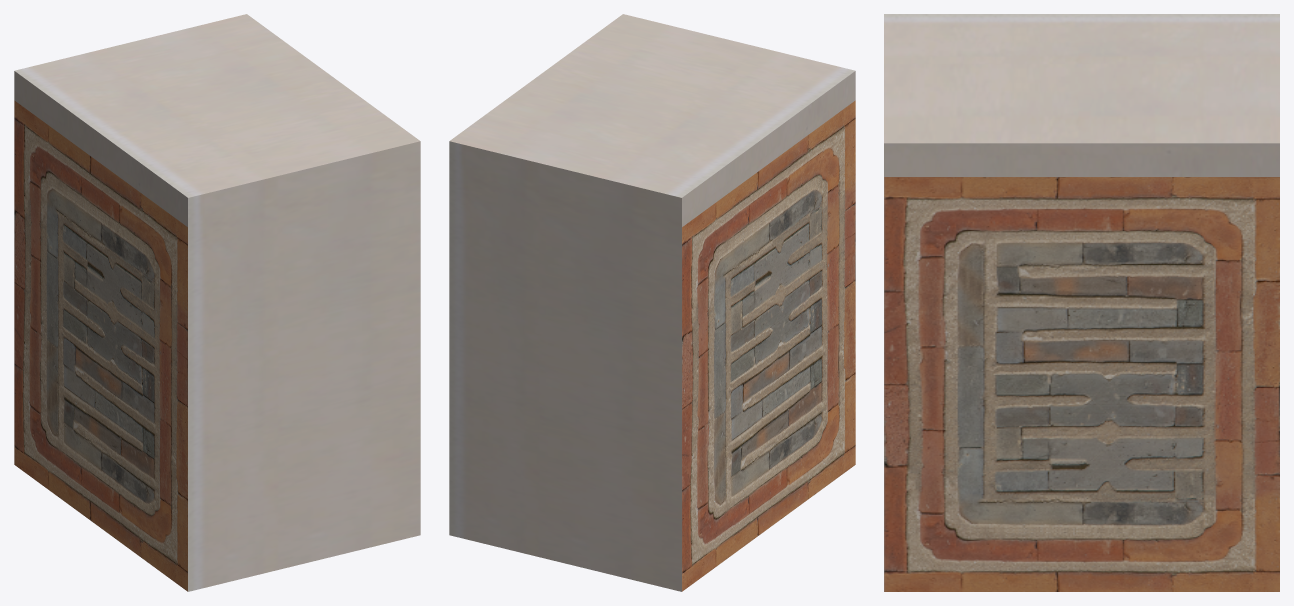
File: SM_StonewallPattern02D.fbx
The picture shows the model from 3 angles, left to right: view 1: azimuth 30°, elevation 25°; view 2: azimuth 150°, elevation 25°; view 3: azimuth 270°, elevation 25°; orthographic projection. The views are drawn at different scales.
Visible parts, largest first — view 1: SM_StonewallPattern02D; view 2: SM_StonewallPattern02D; view 3: SM_StonewallPattern02D.
Boxes of the visible parts, x1=… form: SM_StonewallPattern02D: x1=14, y1=14, x2=420, y2=591; SM_StonewallPattern02D: x1=449, y1=14, x2=855, y2=591; SM_StonewallPattern02D: x1=884, y1=14, x2=1279, y2=591.
Bounding box in the file's own units: 57 × 73.78 × 92.29.
Materials: 1 (1 with a texture image).
